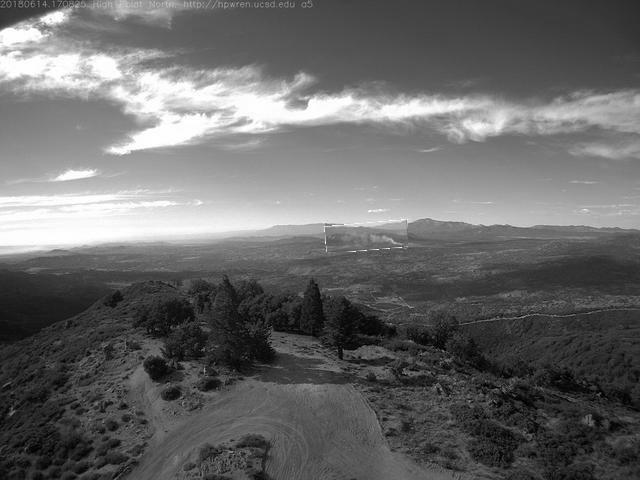smoke: (326, 222, 410, 253)
